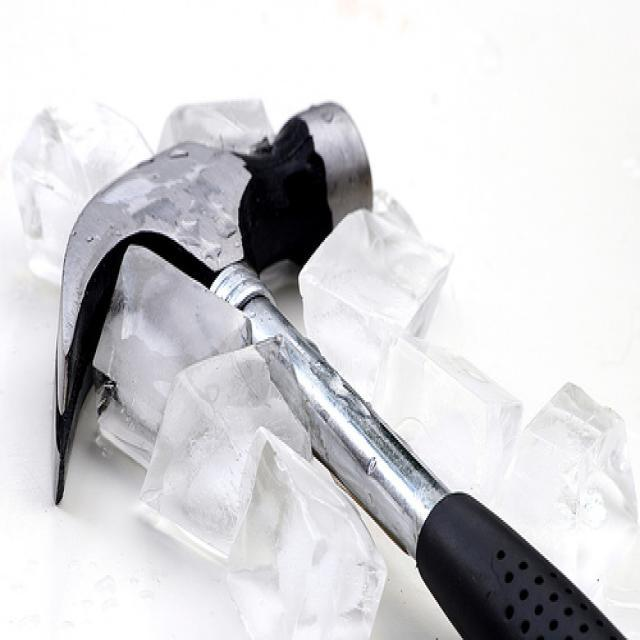hammer: (42, 85, 636, 640)
